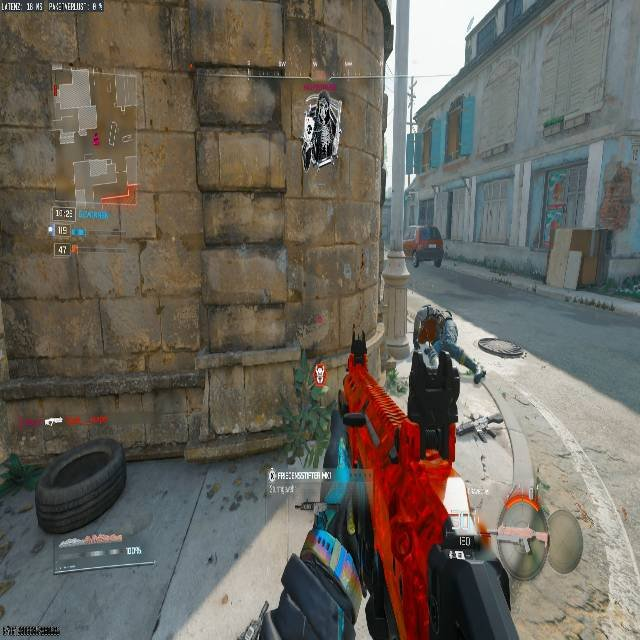player: (406, 224, 446, 273)
